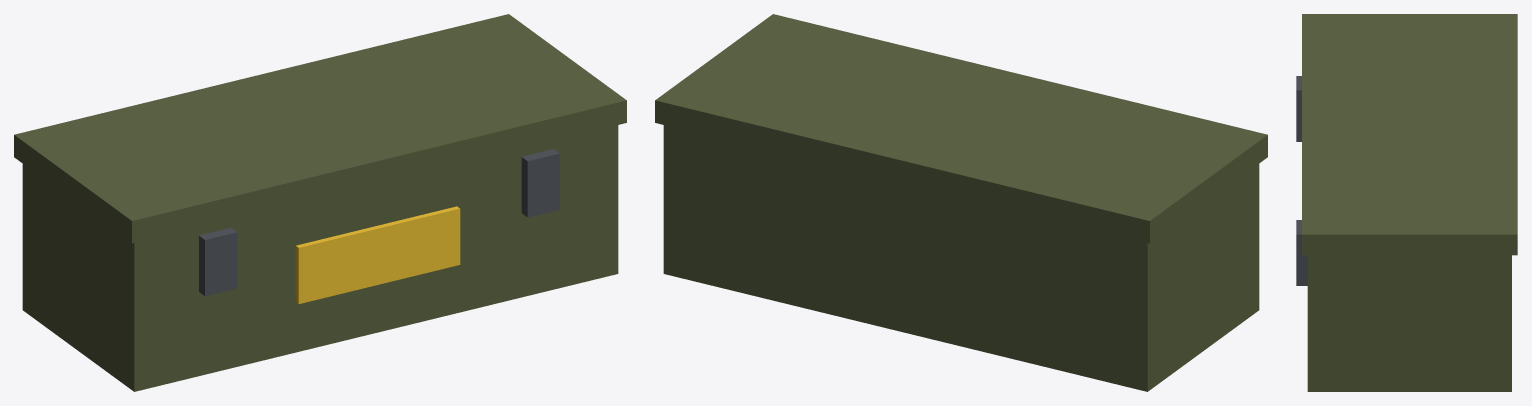
Rendered from pk_weapon.glb.
The picture shows the model from 3 angles, left to right: view 1: azimuth 30°, elevation 25°; view 2: azimuth 150°, elevation 25°; view 3: azimuth 270°, elevation 25°; orthographic projection. The views are drawn at different scales.
Visible parts, largest first — view 1: pk_weapon; view 2: pk_weapon; view 3: pk_weapon.
Boxes of the visible parts, x1,y1,x2,y2 form: pk_weapon: (14,14,626,391); pk_weapon: (655,14,1267,391); pk_weapon: (1296,14,1517,391).
Size of the model in its own units: 0.92 by 0.31 by 0.39.
